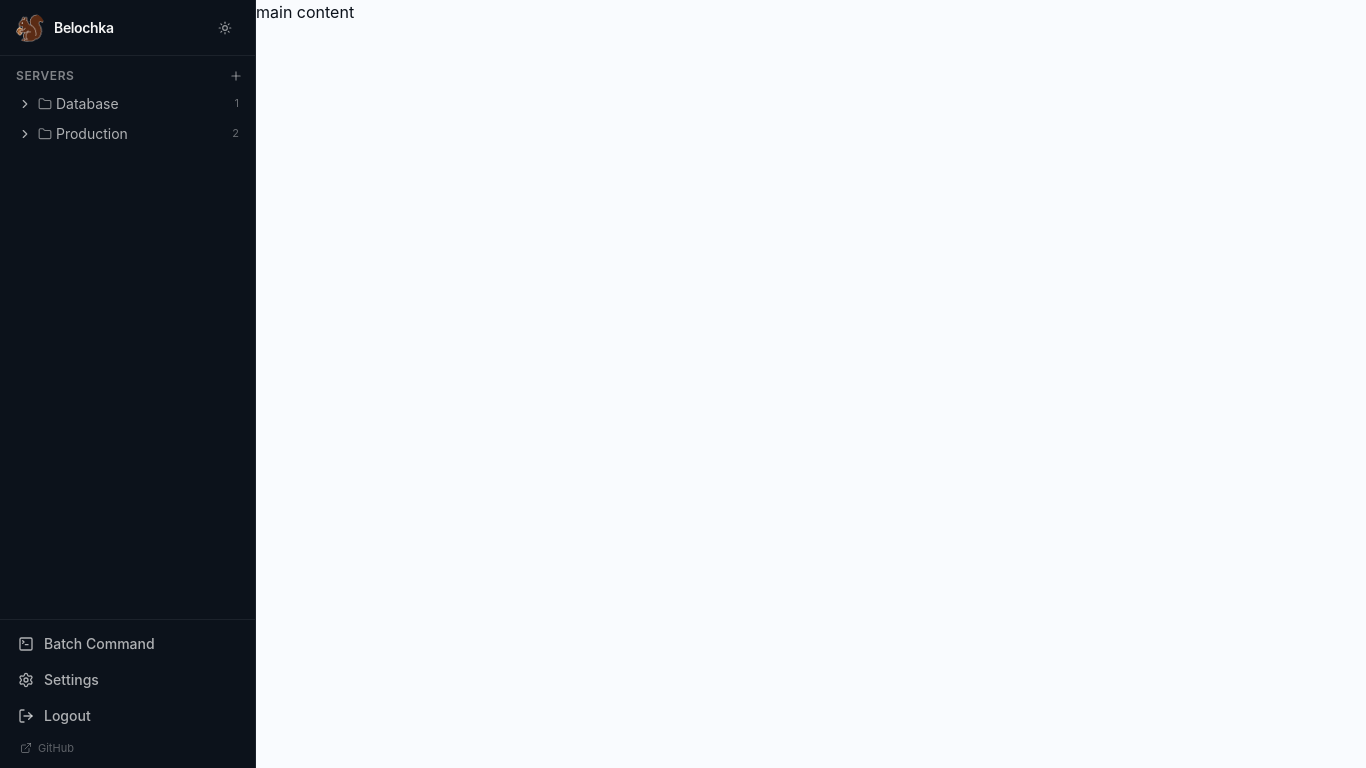
Test case: Sidebar group management UX › shows group context-menu items (rename, delete) and opens the delete confirmation dialog
The width and height of the screenshot is (1366, 768).
Step 1. Right-click the text "Production" → (92, 134), box [56, 125, 128, 142]
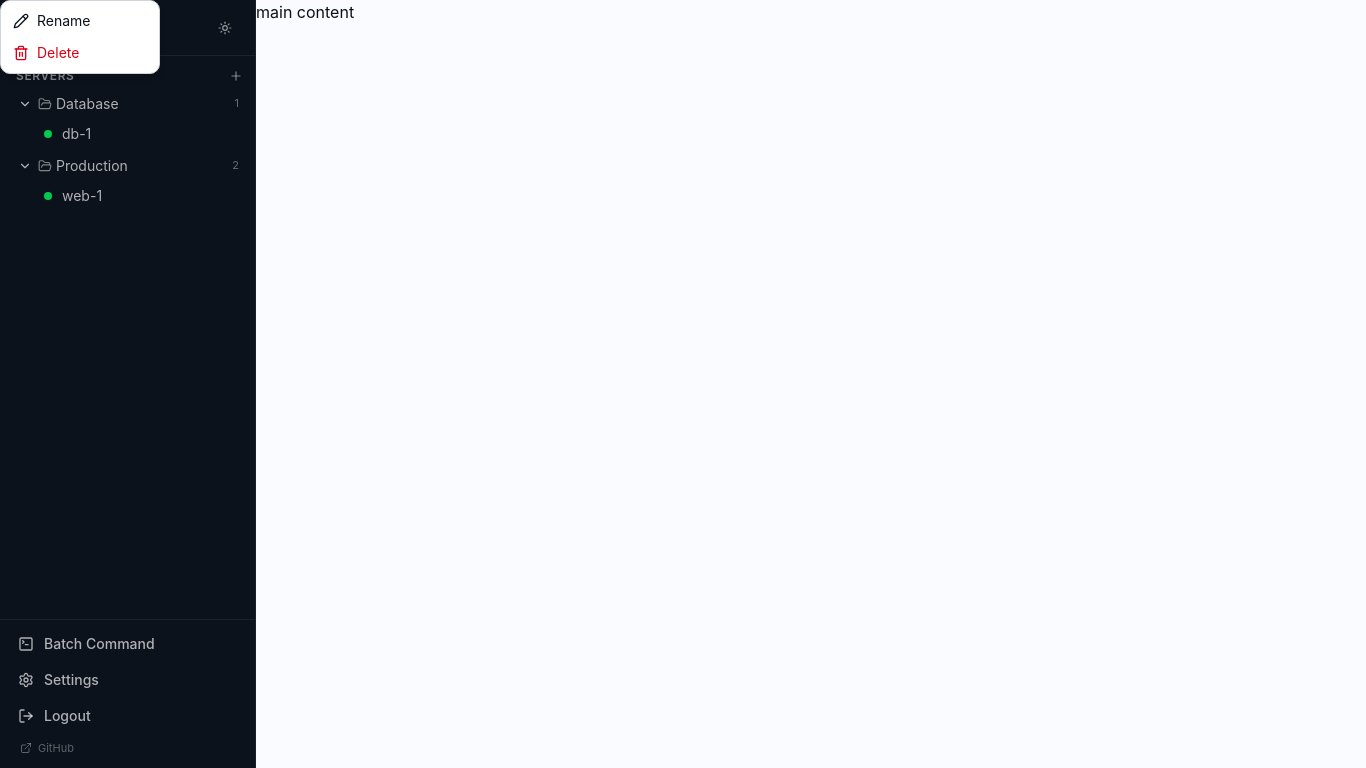
Result: the menu item "Rename" is shown at [5, 5, 155, 37]
Result: the menu item "Delete" is shown
Step 2. Click the menu item "Delete" → (80, 53), box [5, 37, 155, 69]
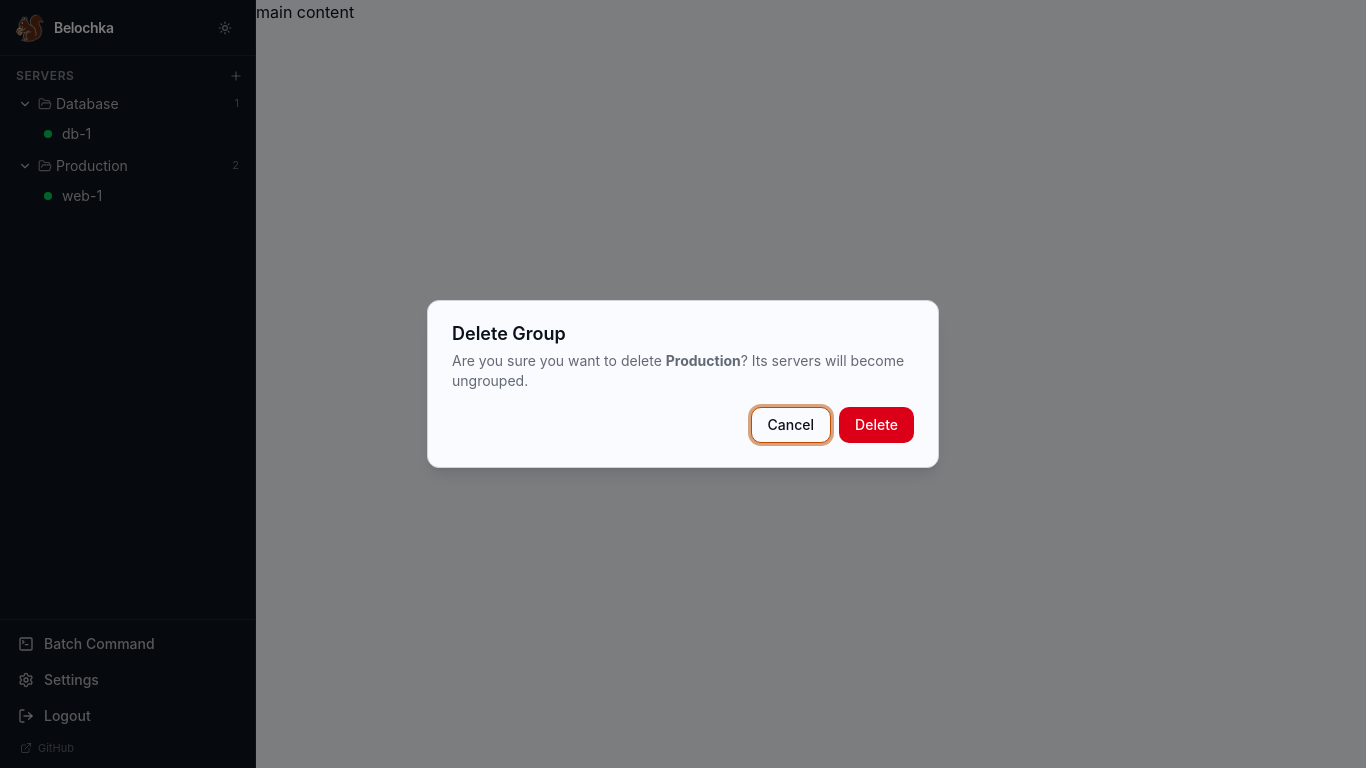
Result: the dialog shows "Delete Group" at [452, 323, 566, 344]
